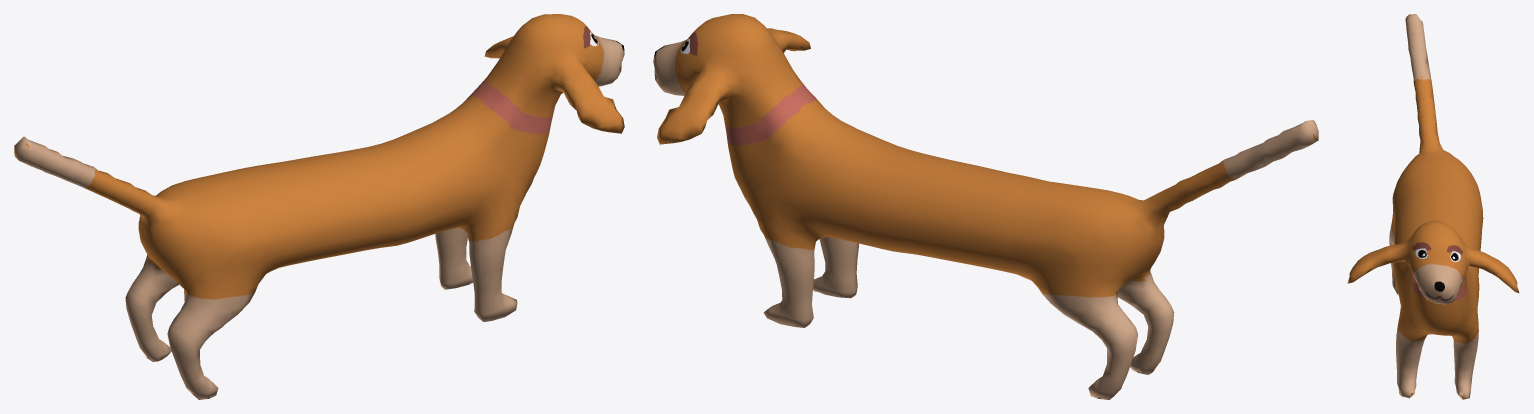
Rendered from dog_aug_10.obj.
3 views of the same model, side by side, from view 1: azimuth 30°, elevation 25°; view 2: azimuth 150°, elevation 25°; view 3: azimuth 270°, elevation 25° (orthographic). The views are drawn at different scales.
Bounding box in the file's own units: 102 × 46.02 × 33.16.
1 material, 1 textured.
